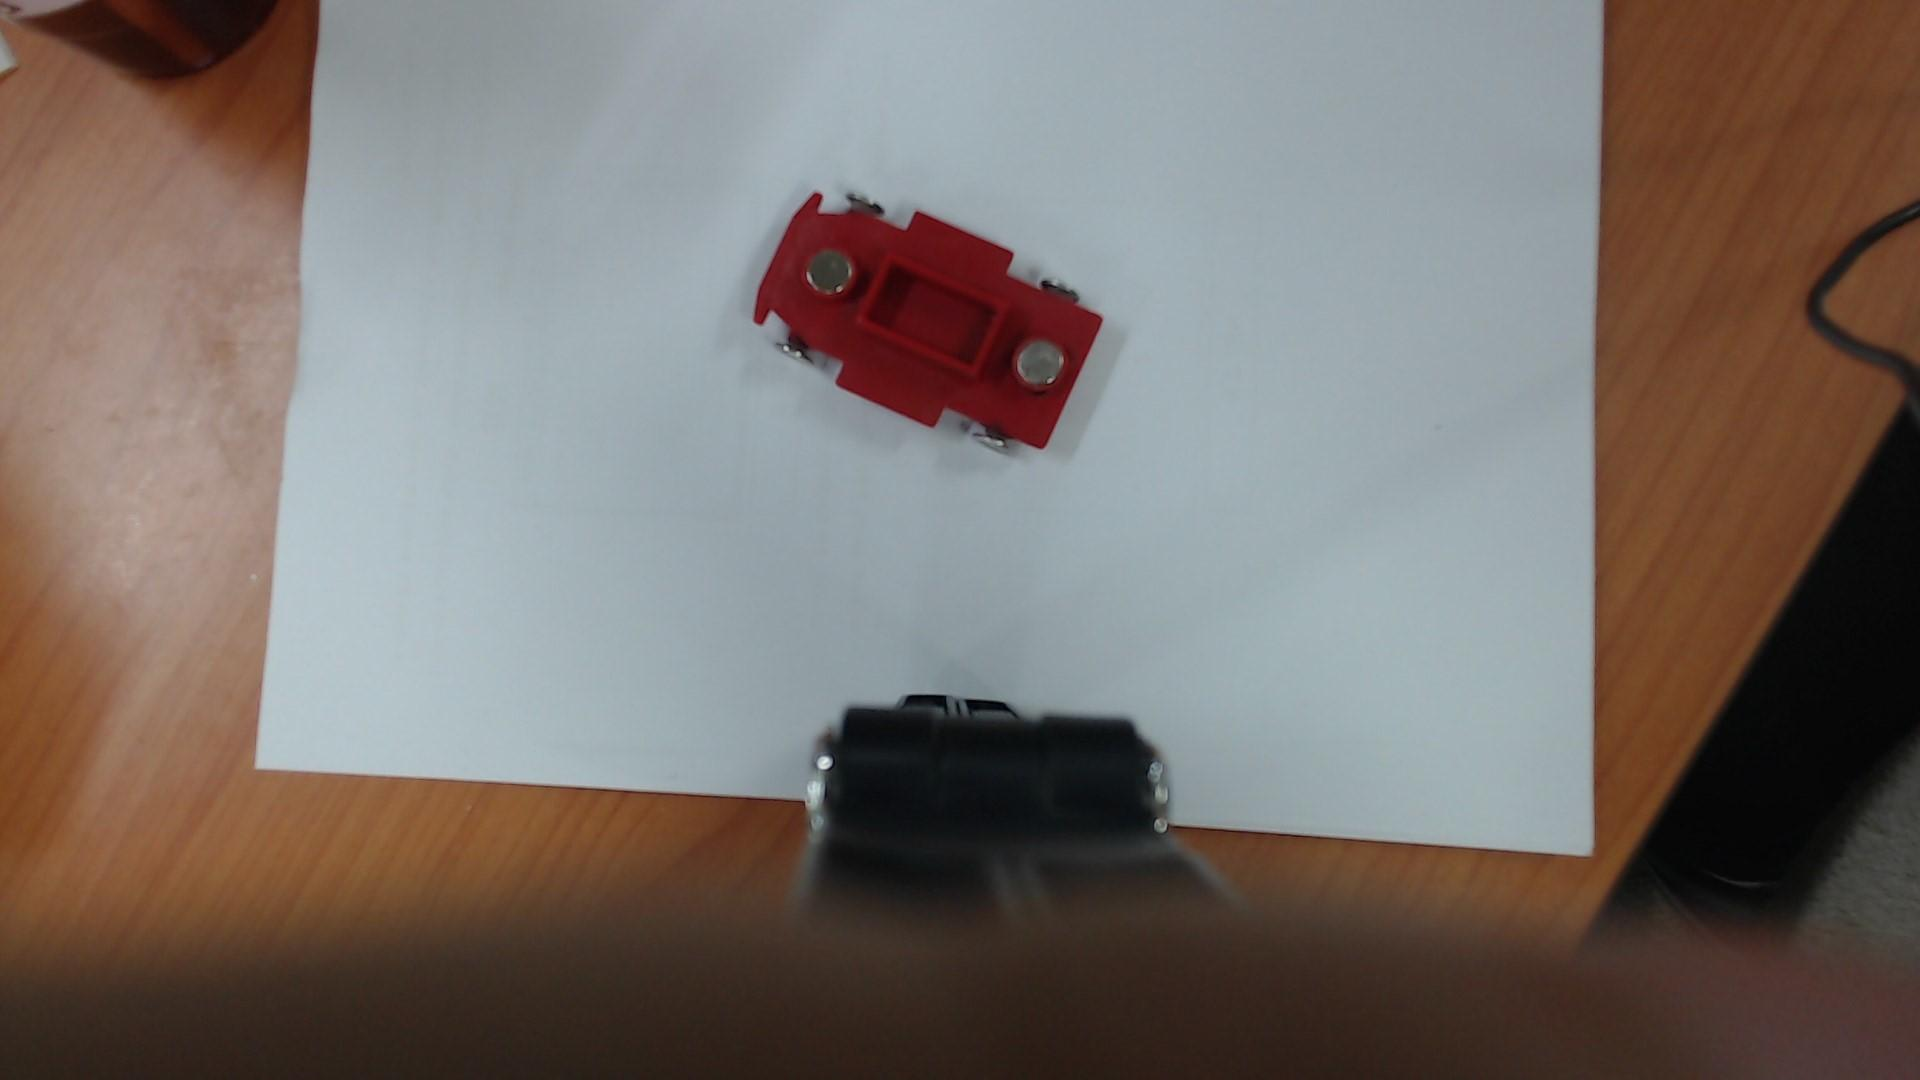lower_ok: (851, 247, 1023, 390)
